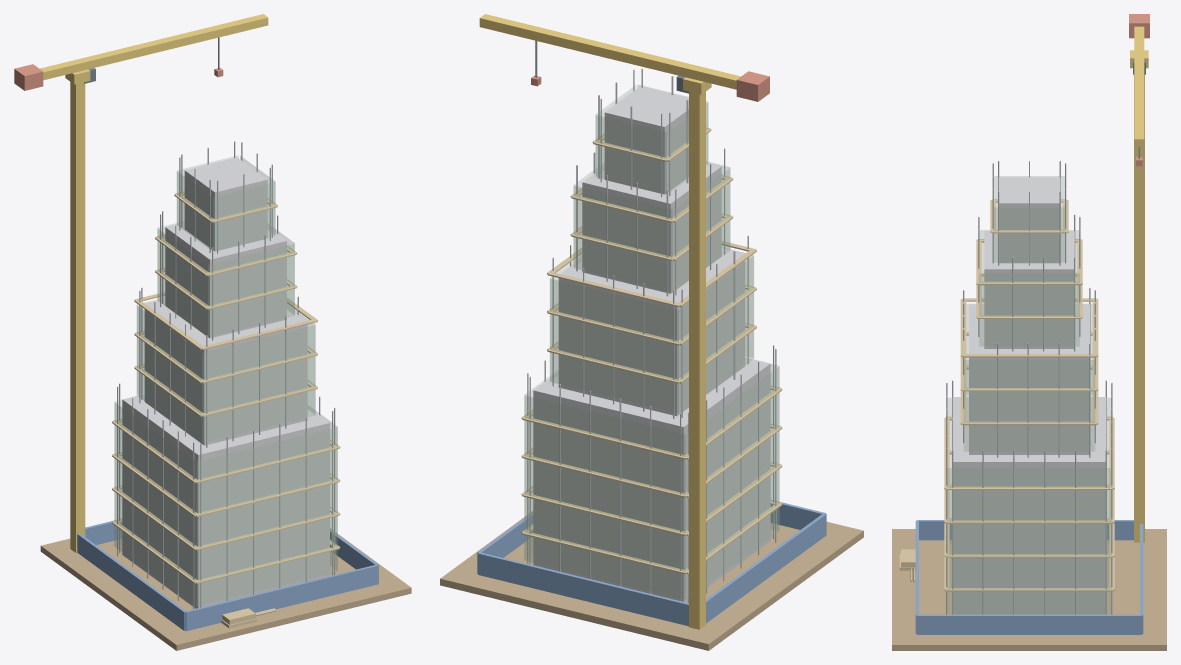
File: num-s-construction.glb
3 renders of one model, left to right at view 1: azimuth 30°, elevation 25°; view 2: azimuth 150°, elevation 25°; view 3: azimuth 270°, elevation 25°, orthographic. The views are drawn at different scales.
Size of the model in its own units: 28.7 by 50.65 by 25.
